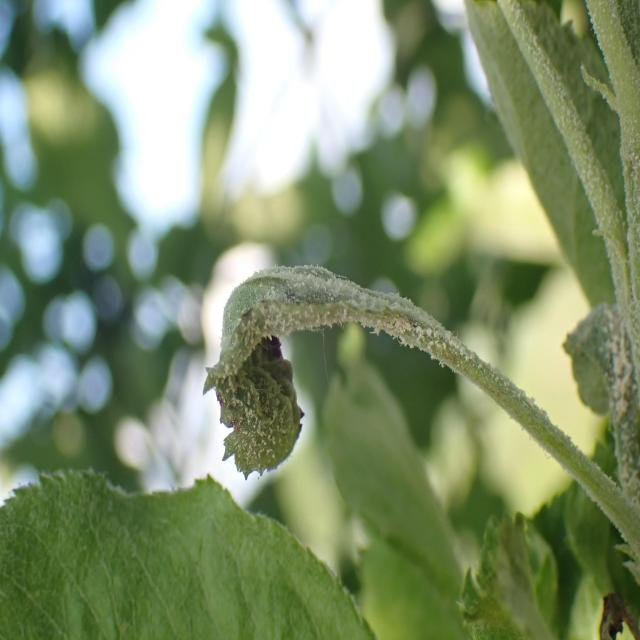Powdery_mildew: (212, 245, 499, 498), (461, 0, 636, 306), (562, 294, 640, 518)
